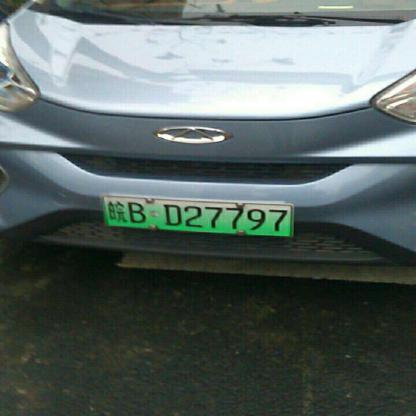lp: (104, 194, 295, 235)
